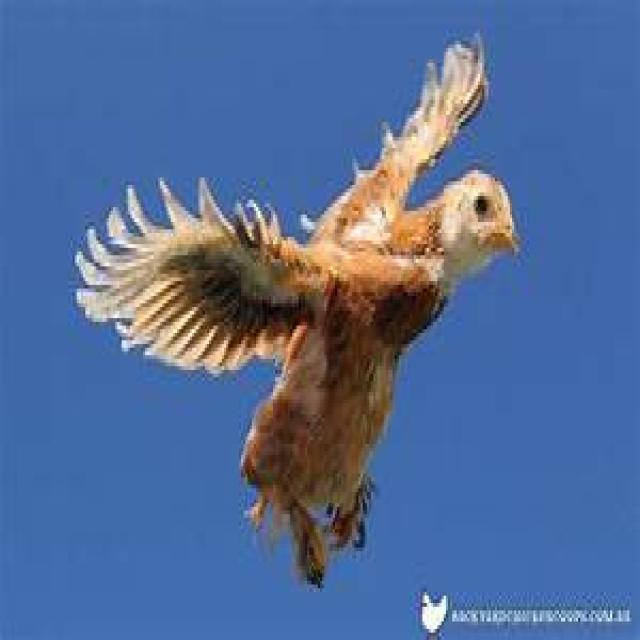hen: (73, 33, 521, 588)
